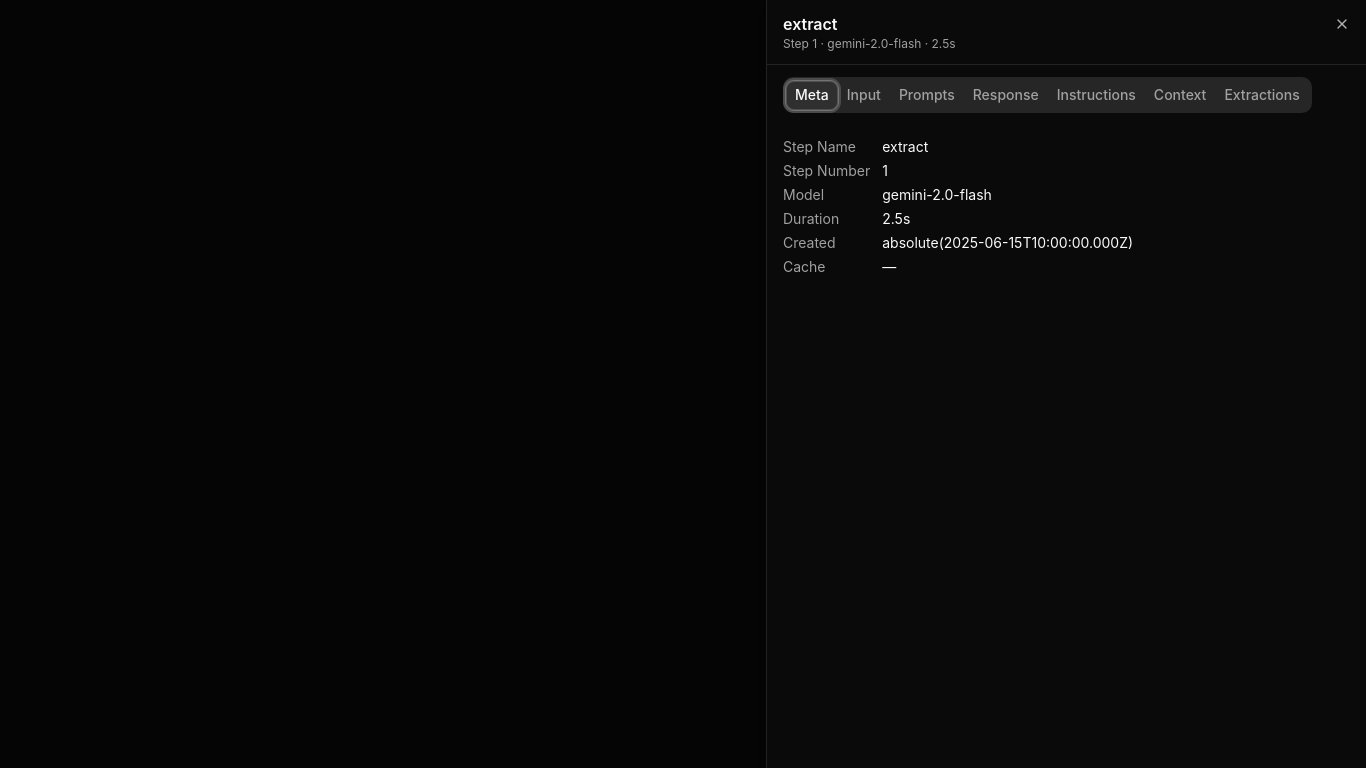
Test: StepDetailPanel › PromptsTab renders prompt templates from useStepInstructions
The image size is (1366, 768).
Click the tab "Prompts": point(927, 95) [890, 80, 964, 110]
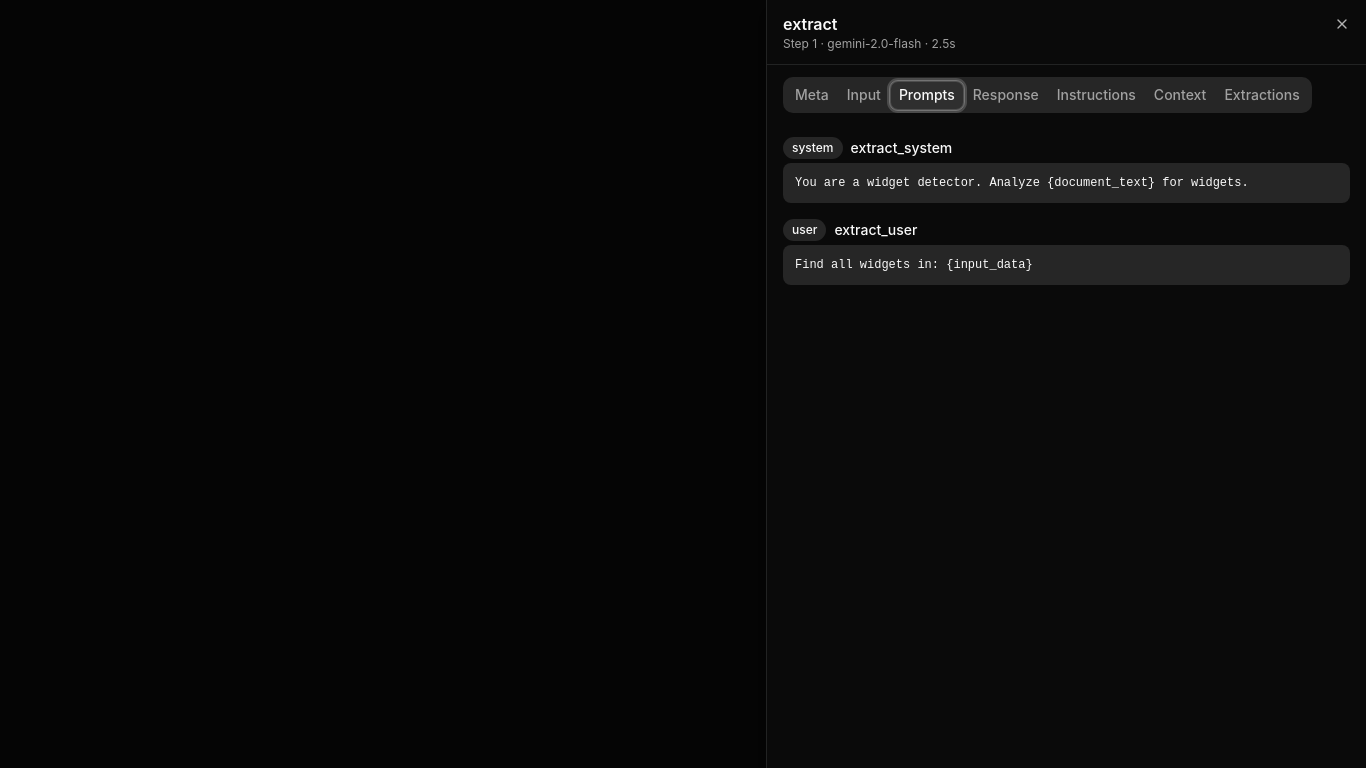
Expected: the text "system" is shown, [783, 137, 842, 159]
Expected: the text "user" is shown, [783, 219, 826, 241]
Expected: the text "extract_system" is shown, [850, 138, 952, 158]
